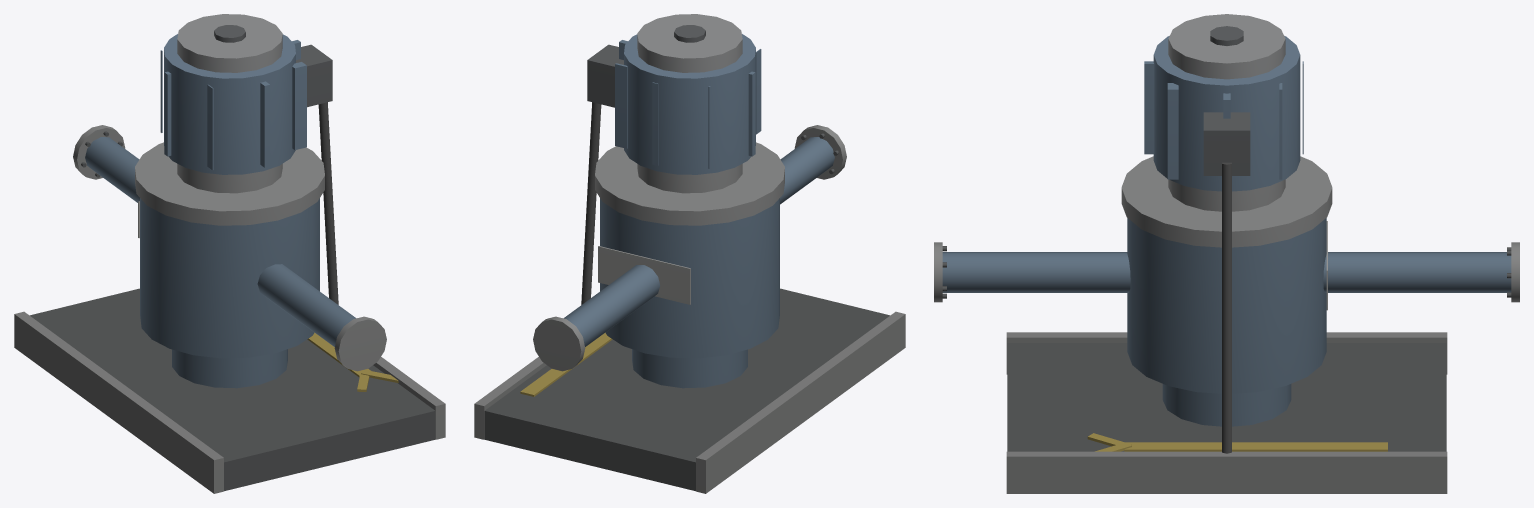
The model's file is coolantPump_steel.glb.
3 renders of one model, left to right at view 1: azimuth 30°, elevation 25°; view 2: azimuth 150°, elevation 25°; view 3: azimuth 270°, elevation 25°, orthographic. The views are drawn at different scales.
Parts seen in each view (by area): view 1: coolantPump_steel; view 2: coolantPump_steel; view 3: coolantPump_steel.
Part boxes in pixels (box(x1,y1,x2,y2)): coolantPump_steel: box(14, 14, 445, 493); coolantPump_steel: box(474, 14, 905, 493); coolantPump_steel: box(934, 14, 1519, 493).
Bounding box in the file's own units: 1.01 × 1.5 × 2.
